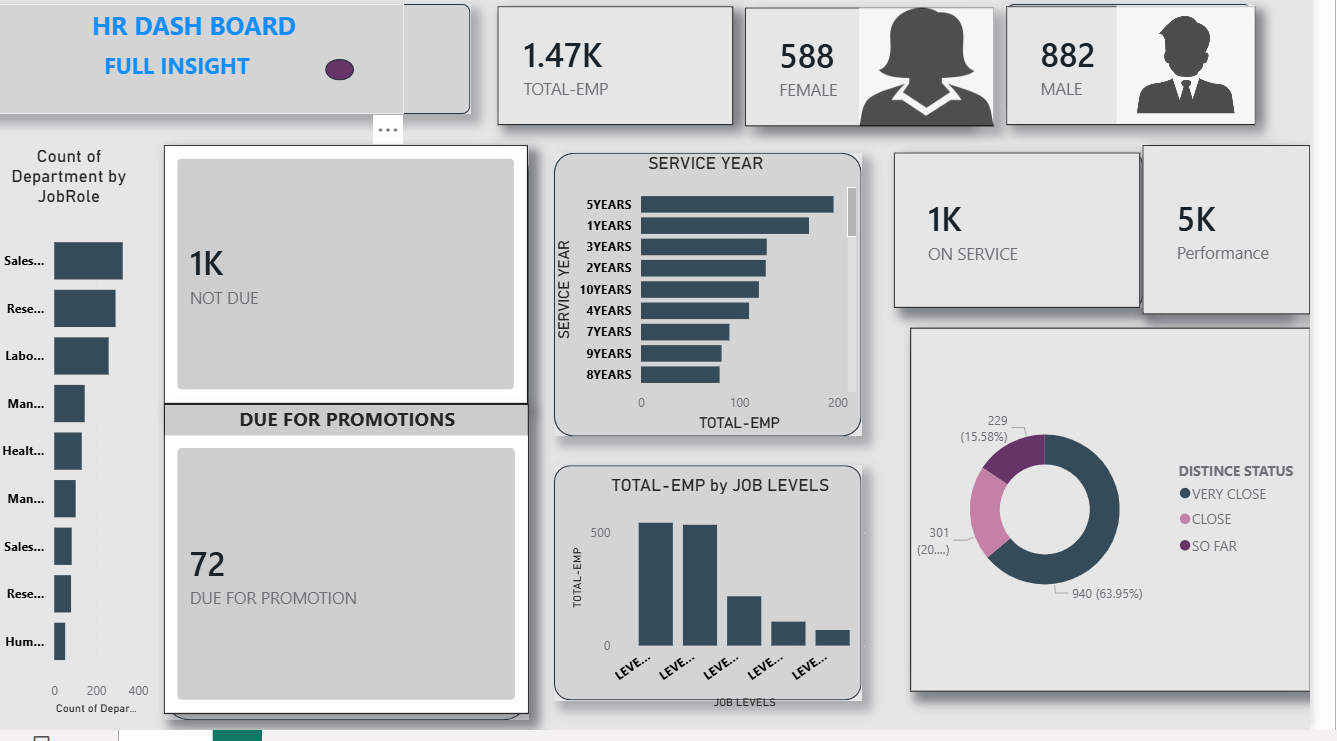

This screenshot's page, from the dashboard's own definition file:
{"tool":"powerbi","page":{"name":"Page 1","canvas":[1280,720],"ordinal":0},"visuals":[{"type":"shape","box":[0,19.3,469.3,106.2],"z":1000},{"type":"shape","box":[495.8,21.7,226.8,106.2],"z":2000},{"type":"shape","box":[744.4,26.5,203.9,106.2],"z":3000},{"type":"shape","box":[986.9,19.3,236.5,106.2],"z":4000},{"type":"shape","box":[173.7,155.6,352.3,555],"z":5000},{"type":"shape","box":[550.1,162.9,296.8,273.9],"z":6000},{"type":"shape","box":[550.1,464.5,296.8,226.8],"z":7000},{"type":"shape","box":[880.7,162.9,237.7,149.6],"z":8000},{"type":"shape","box":[1118.4,155.6,136.3,162.9],"z":9000},{"type":"shape","box":[894,331.8,386.1,351.1],"z":10000},{"type":"textbox","box":[0,19.3,405.4,106.2],"z":11000},{"type":"textbox","box":[0,59.1,372.8,50.7],"z":12000},{"type":"shape","box":[329.4,72.4,27.7,20.5],"z":13000},{"type":"cardVisual","fields":{"Data":["NEW MEASURE.TOTAL-EMP"]},"box":[495.8,21.7,226.8,114.6],"z":14000},{"type":"cardVisual","title":"FEMALE","fields":{"Data":["NEW MEASURE.FEMALE"]},"box":[734.7,22.9,240.1,114.6],"z":15000},{"type":"cardVisual","title":"FEMALE","fields":{"Data":["NEW MEASURE.MALE"]},"box":[986.9,21.7,240.1,114.6],"z":16000},{"type":"image","box":[844.5,22.9,130.3,114.6],"z":17000},{"type":"image","box":[1093,20.5,133.9,114.6],"z":18000},{"type":"cardVisual","title":"NOT DUE","fields":{"Data":["NEW MEASURE.NOT DUE"]},"box":[173.7,155.6,351.1,249.7],"z":19000},{"type":"cardVisual","title":"DUE FOR PROMOTIONS","fields":{"Data":["NEW MEASURE.DUE FOR PROMOTION"]},"box":[173.7,405.4,352.3,299.2],"z":19001},{"type":"barChart","title":"SERVICE YEAR","fields":{"Category":["HR Analytics Data.SERVICE YEAR"],"Y":["NEW MEASURE.TOTAL-EMP"]},"box":[546.5,162.9,300.4,273.9],"z":19002},{"type":"columnChart","fields":{"Category":["HR Analytics Data.JOB LEVELS"],"Y":["NEW MEASURE.TOTAL-EMP"]},"box":[562.2,472.9,296.8,231.6],"z":19003},{"type":"cardVisual","title":"FEMALE","fields":{"Data":["NEW MEASURE.ON SERVICE"]},"box":[878.3,162.9,237.7,149.6],"z":19004},{"type":"cardVisual","title":"FEMALE","fields":{"Data":["Sum(HR Analytics Data.PerformanceRating)"]},"box":[1118.4,155.6,161.7,162.9],"z":19005},{"type":"donutChart","fields":{"Category":["HR Analytics Data.DISTINCE STATUS"],"Y":["NEW MEASURE.TOTAL-EMP"]},"box":[894,331.8,386.1,351.1],"z":19006},{"type":"clusteredBarChart","fields":{"Category":["HR Analytics Data.JobRole"],"Y":["CountNonNull(HR Analytics Data.Department)"]},"box":[0,155.6,164.1,555],"z":19007}]}

Visuals, with their boxes in screenshot pixels (x1, y1, x2, y2), scaled from the page's 1280x720 canvas onto the 1337x741 screenshot:
shape: BBox(0, 20, 490, 129)
shape: BBox(518, 22, 755, 132)
shape: BBox(778, 27, 991, 137)
shape: BBox(1031, 20, 1278, 129)
shape: BBox(181, 160, 549, 731)
shape: BBox(575, 168, 885, 450)
shape: BBox(575, 478, 885, 711)
shape: BBox(920, 168, 1168, 322)
shape: BBox(1168, 160, 1311, 328)
shape: BBox(934, 341, 1336, 703)
textbox: BBox(0, 20, 423, 129)
textbox: BBox(0, 61, 389, 113)
shape: BBox(344, 75, 373, 96)
cardVisual - NEW MEASURE.TOTAL-EMP: BBox(518, 22, 755, 140)
"FEMALE" cardVisual: BBox(767, 24, 1018, 142)
"FEMALE" cardVisual: BBox(1031, 22, 1282, 140)
image: BBox(882, 24, 1018, 142)
image: BBox(1142, 21, 1282, 139)
"NOT DUE" cardVisual: BBox(181, 160, 548, 417)
"DUE FOR PROMOTIONS" cardVisual: BBox(181, 417, 549, 725)
"SERVICE YEAR" barChart: BBox(571, 168, 885, 450)
columnChart - HR Analytics Data.JOB LEVELS x NEW MEASURE.TOTAL-EMP: BBox(587, 487, 897, 725)
"FEMALE" cardVisual: BBox(917, 168, 1166, 322)
"FEMALE" cardVisual: BBox(1168, 160, 1336, 328)
donutChart - HR Analytics Data.DISTINCE STATUS x NEW MEASURE.TOTAL-EMP: BBox(934, 341, 1336, 703)
clusteredBarChart - HR Analytics Data.JobRole x CountNonNull(HR Analytics Data.Department): BBox(0, 160, 171, 731)
